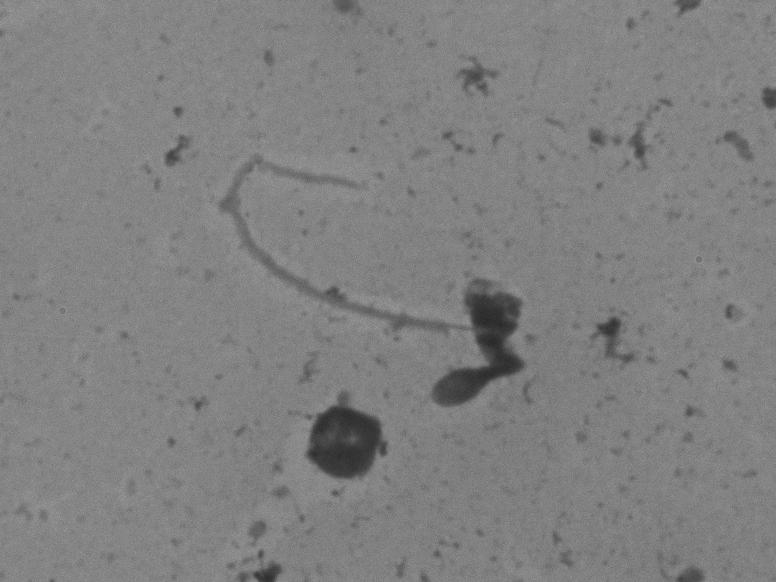Abnormal: (209, 120, 564, 430)
